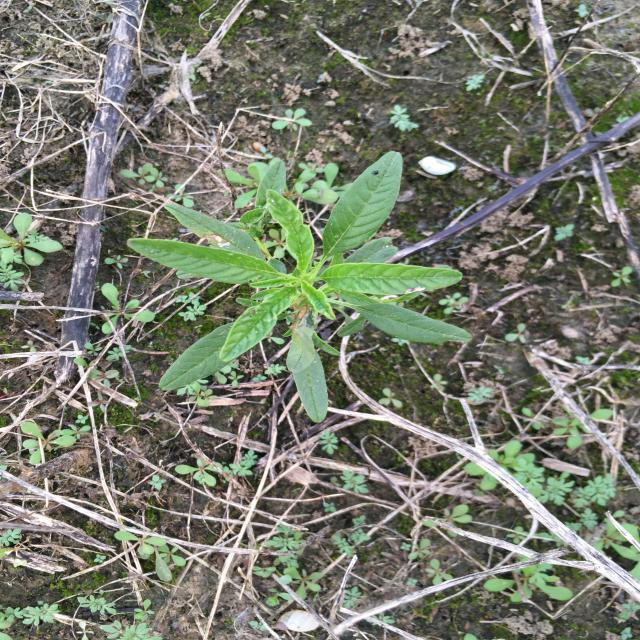Carpetweed: (463, 437, 537, 499), (477, 561, 578, 606), (118, 527, 188, 586), (544, 403, 618, 453), (19, 419, 94, 467), (0, 211, 65, 265), (252, 566, 326, 608), (100, 283, 156, 338), (172, 456, 230, 494), (423, 499, 474, 538)
Ragweed: (530, 471, 622, 516), (4, 602, 63, 628)
Waterhemp: (124, 149, 475, 425)
